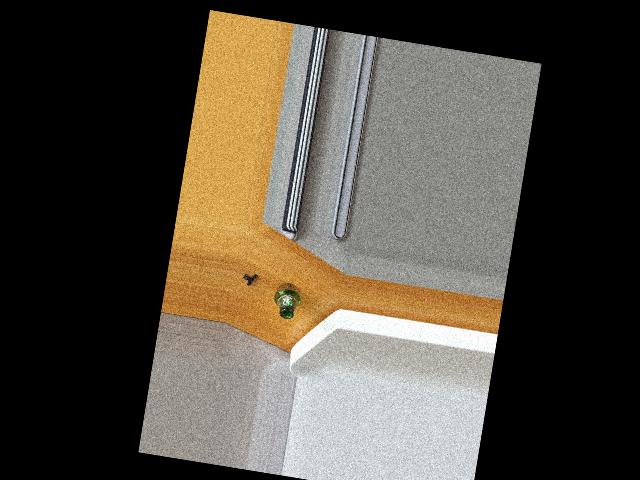beer: (271, 280, 304, 320)
